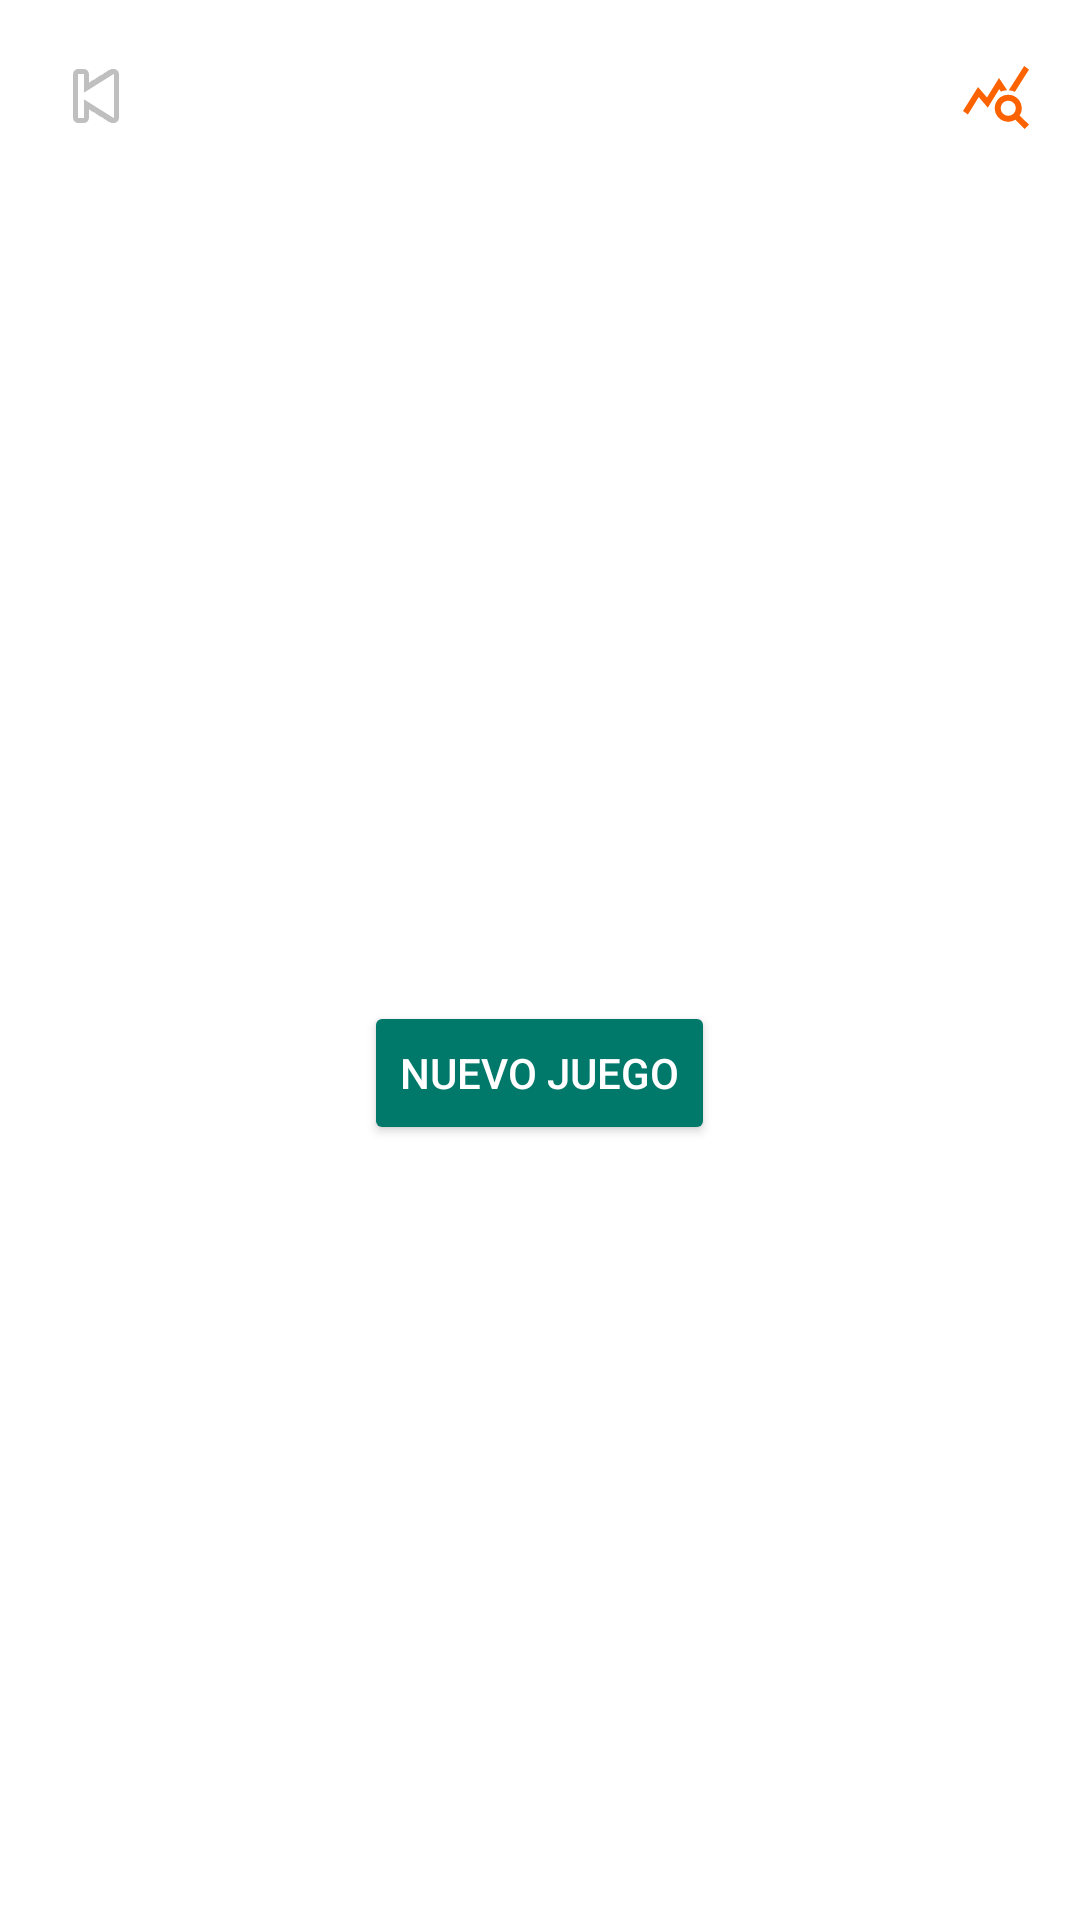

Named icons in this screenshot (1080px x 1920px) and their bounding boxes, (x1, y1, x2, y2):
Back: (73, 69, 119, 123)
Stats: (963, 66, 1029, 129)
